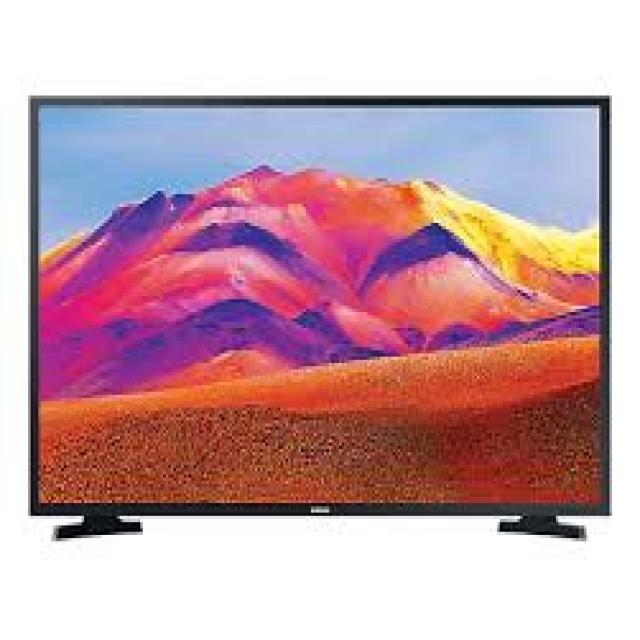tv: (22, 85, 614, 526)
